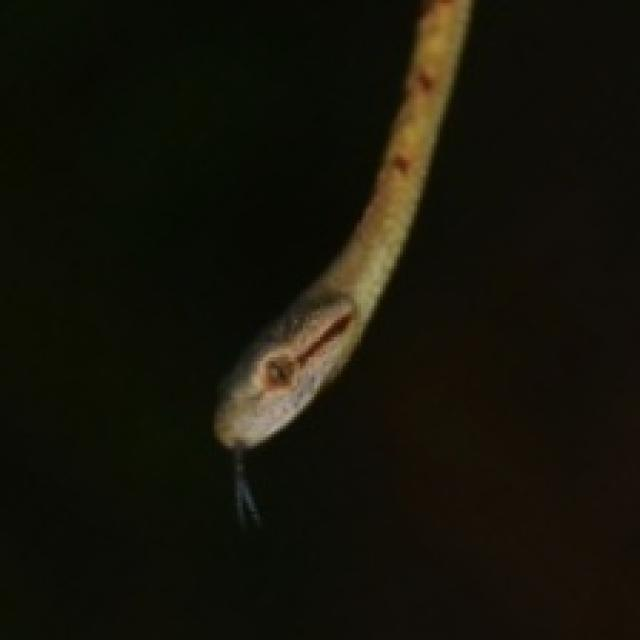dog-toothed cat snake: (214, 0, 469, 526)
